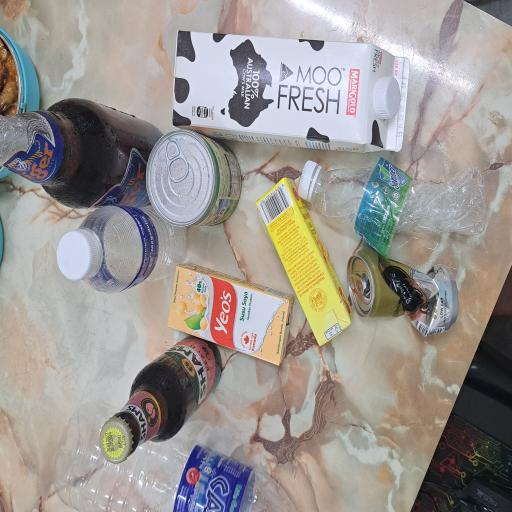can: (211, 196, 286, 322)
drink carton: (270, 223, 360, 512), (132, 346, 249, 469), (112, 220, 187, 393)
glass bottle: (225, 0, 310, 219), (33, 136, 135, 302)
plastic bottle: (0, 68, 80, 428), (161, 113, 230, 249), (193, 417, 261, 512)
plastic bottle cap: (172, 73, 210, 126), (236, 399, 268, 427), (289, 493, 326, 512)
pop tab: (243, 203, 269, 250)
